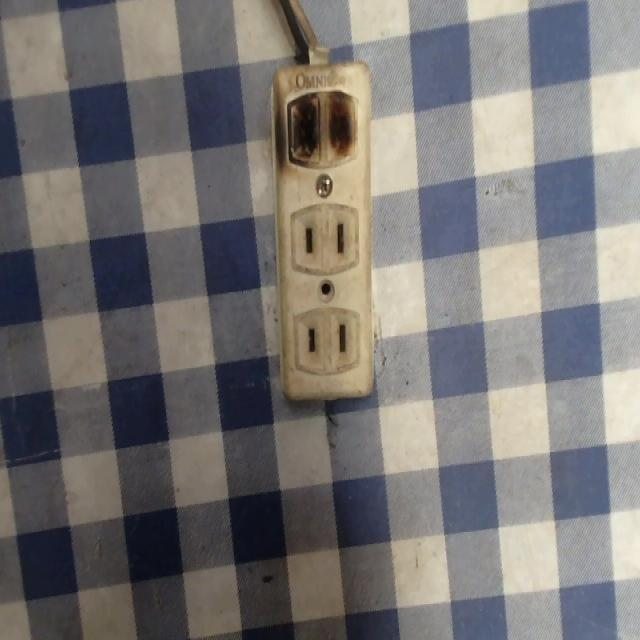-: (284, 86, 360, 175)
